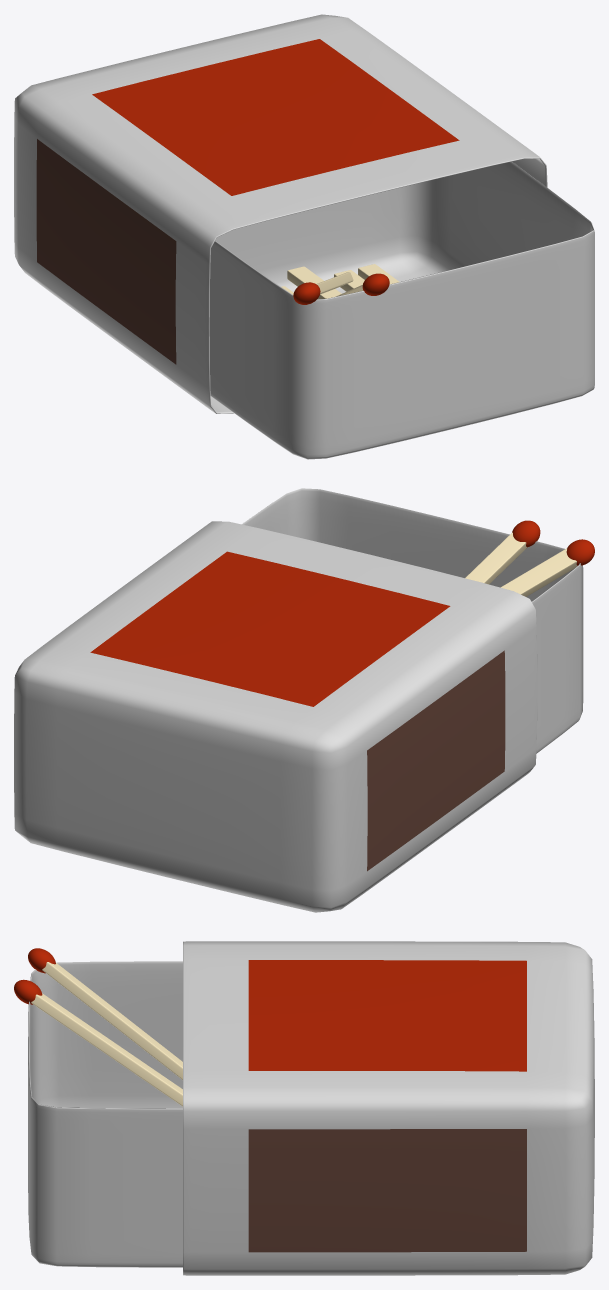
File: Match.fbx
3 views of the same model, one above another, from view 1: azimuth 30°, elevation 25°; view 2: azimuth 150°, elevation 25°; view 3: azimuth 270°, elevation 25° (orthographic). The views are drawn at different scales.
Parts seen in each view (by area): view 1: pCube7, pCube8, pCube9; view 2: pCube7, pCube8, pCube9 (×2), pSphere6 (×2); view 3: pCube7, pCube8, pCube9 (×2), pSphere6 (×2).
Boxes of the visible parts, left/top/right/bottom form: pCube7: left=14, top=14, right=547, bottom=413; pCube8: left=209, top=161, right=594, bottom=459; pCube9: left=287, top=266, right=341, bottom=299; pCube7: left=14, top=521, right=537, bottom=912; pCube8: left=242, top=488, right=583, bottom=753; pCube9 (×2): left=465, top=532, right=577, bottom=596; pSphere6 (×2): left=512, top=520, right=594, bottom=565; pCube7: left=183, top=941, right=594, bottom=1275; pCube8: left=28, top=961, right=182, bottom=1267; pCube9 (×2): left=31, top=962, right=182, bottom=1106; pSphere6 (×2): left=14, top=948, right=55, bottom=1004.
Bounding box in the file's own units: 1.09 × 0.5783 × 1.62.
